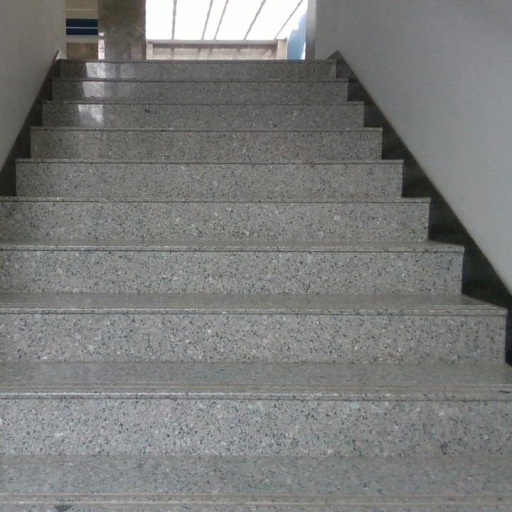Stairs: (0, 61, 512, 512)
